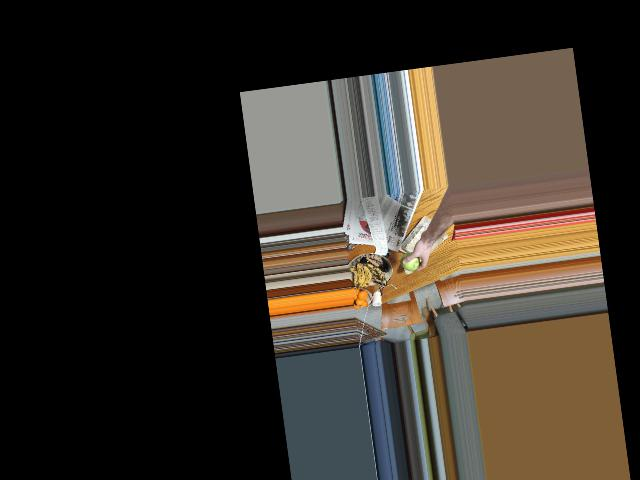apple: (399, 246, 423, 274)
